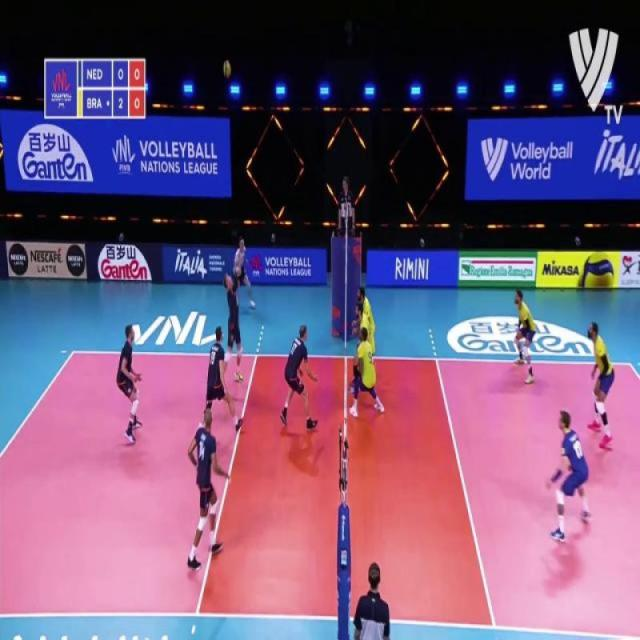volleyball: (575, 252, 615, 288), (222, 58, 231, 79)
